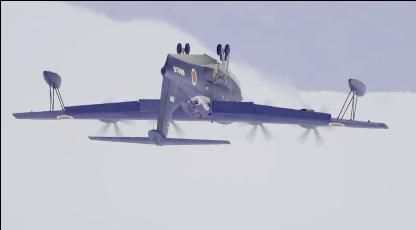Tu95: (11, 43, 388, 146)
